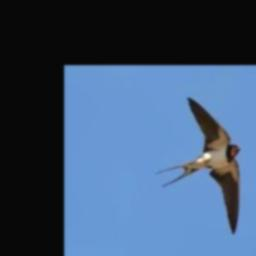Swallow: (156, 97, 242, 235)
